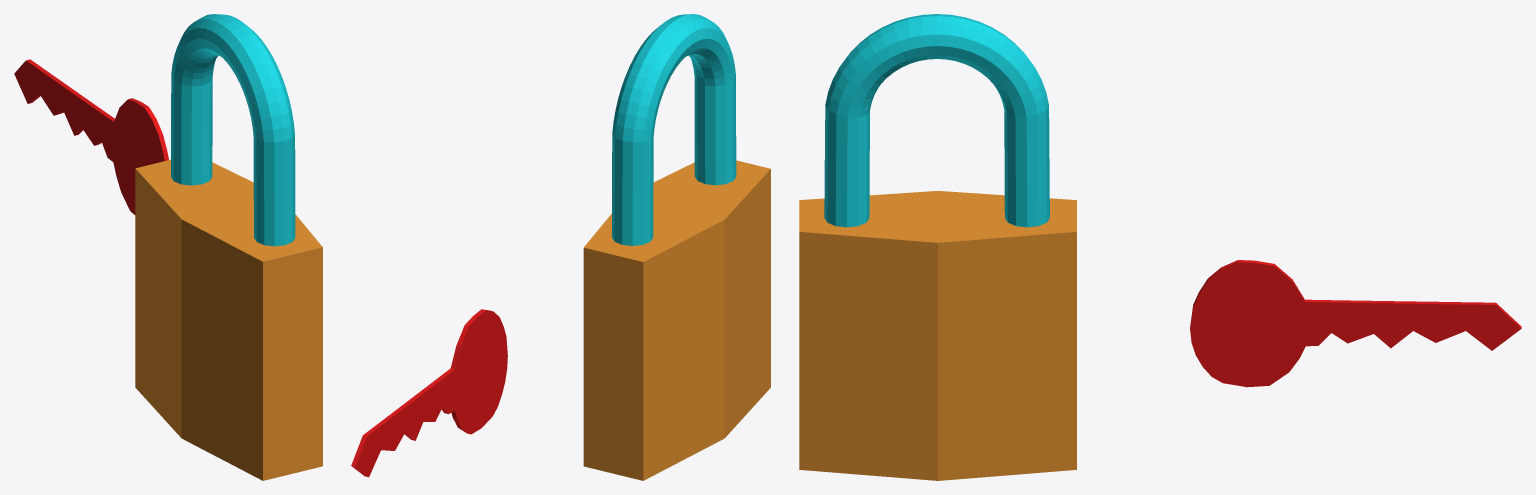
The model's file is lock and key.fbx.
The picture shows the model from 3 angles, left to right: view 1: azimuth 30°, elevation 25°; view 2: azimuth 150°, elevation 25°; view 3: azimuth 270°, elevation 25°; orthographic projection. The views are drawn at different scales.
Parts seen in each view (by area): view 1: Torus, Cylinder; view 2: Torus, Cylinder; view 3: Torus, Cylinder.
Part boxes in pixels (x1,y1,x2,y2): Torus: [135, 14, 322, 480]; Cylinder: [14, 59, 168, 214]; Torus: [583, 14, 770, 480]; Cylinder: [351, 309, 507, 477]; Torus: [799, 14, 1076, 480]; Cylinder: [1190, 260, 1521, 387].
Size of the model in its own units: 90.28 by 332 by 493.
